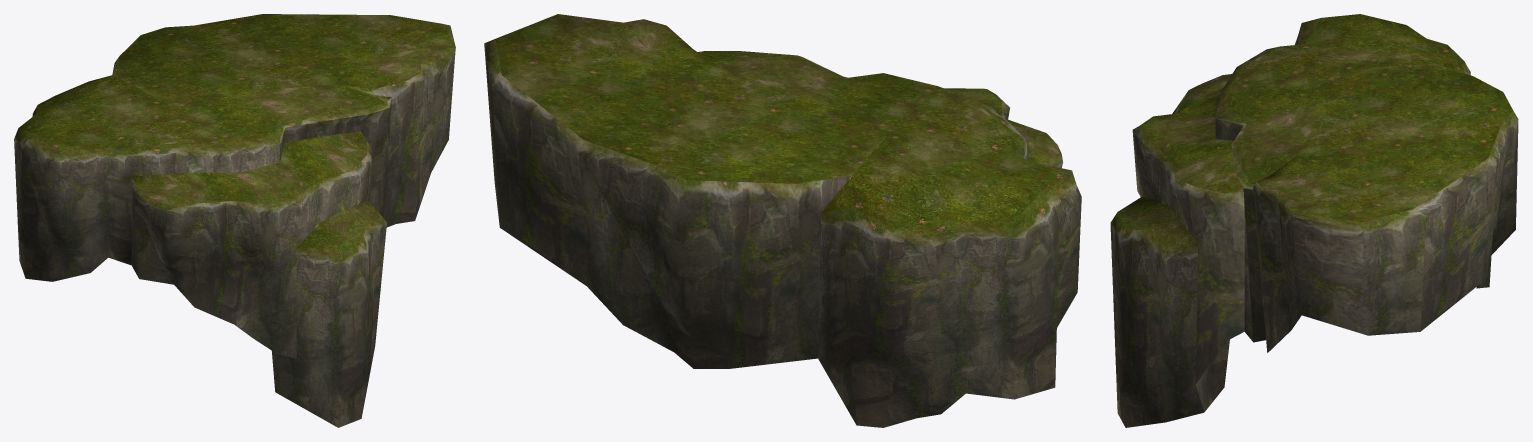
File: yw_huanghunyaosai_fengbianshi01.FBX
The picture shows the model from 3 angles, left to right: view 1: azimuth 30°, elevation 25°; view 2: azimuth 150°, elevation 25°; view 3: azimuth 270°, elevation 25°; orthographic projection. The views are drawn at different scales.
Visible parts, largest first — view 1: yw_huanghunyaosai_fengbianshi01; view 2: yw_huanghunyaosai_fengbianshi01; view 3: yw_huanghunyaosai_fengbianshi01.
Part boxes in pixels (x1,y1,x2,y2): yw_huanghunyaosai_fengbianshi01: (14,14,455,427); yw_huanghunyaosai_fengbianshi01: (484,14,1081,427); yw_huanghunyaosai_fengbianshi01: (1110,14,1518,427).
Bounding box in the file's own units: 1416 × 873 × 1044.
